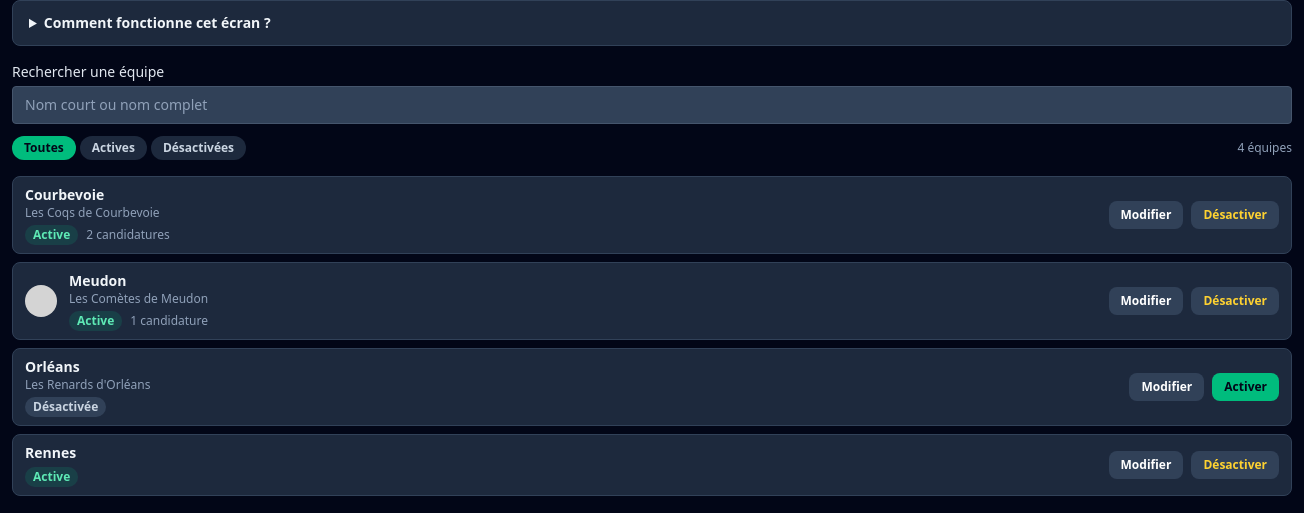
it: GestionEquipesReferentiel — activation et désactivation (CA9) › active immédiatement, sans confirmation
The image size is (1304, 513).
Click the button with aria-label "Activer Orléans" at (1246, 387), box [1212, 373, 1279, 401]
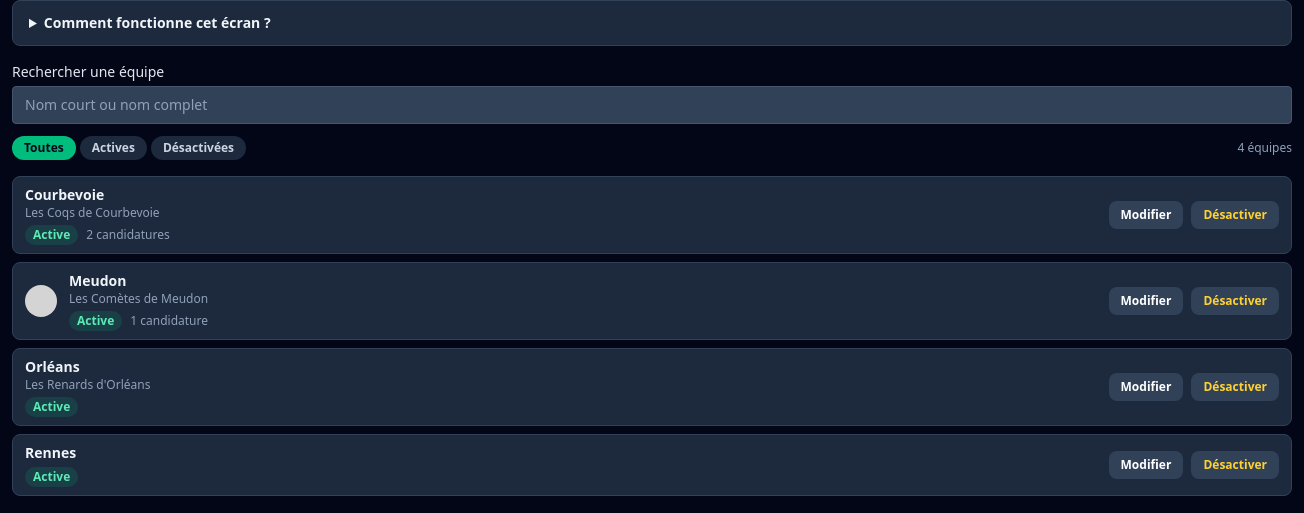
Expected: the button with aria-label "Désactiver Orléans" is shown, [1191, 373, 1279, 401]
